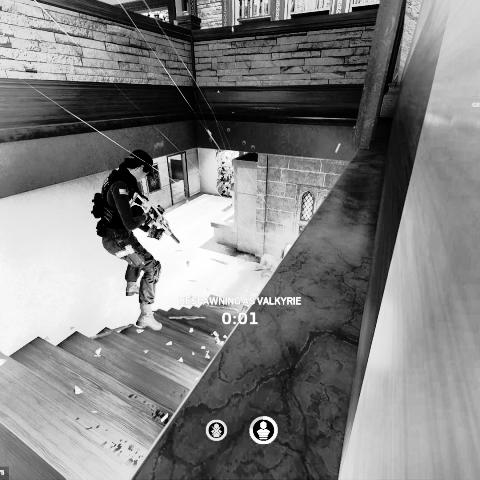Character: (88, 147, 182, 332)
Head: (125, 148, 156, 182)
